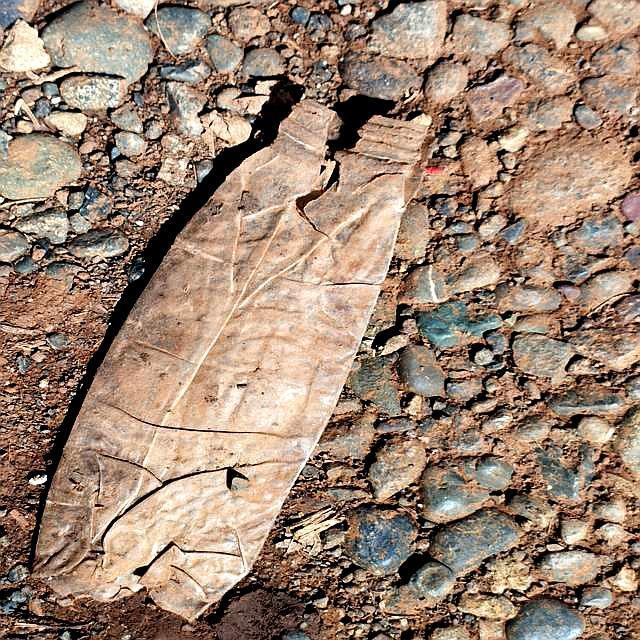Non-biodegradable: (7, 79, 451, 640)
